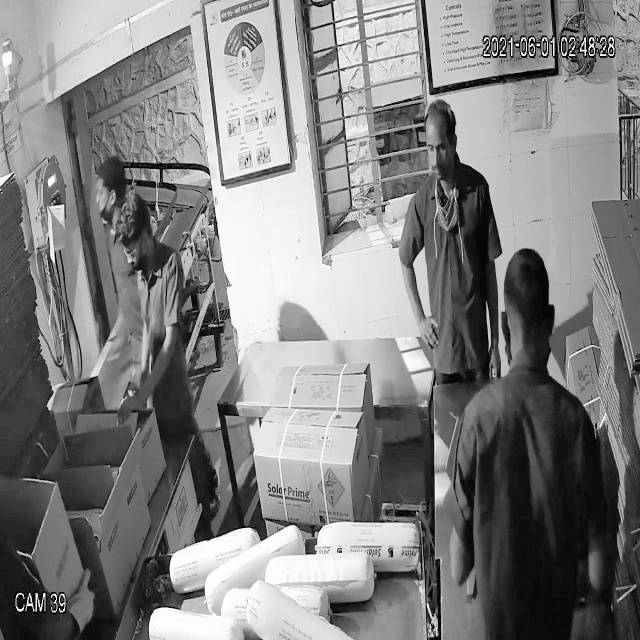Sin_gafas: (420, 132, 460, 162)
